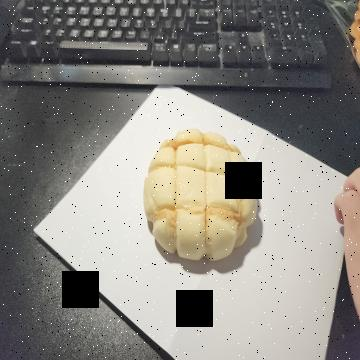melon_bread: (142, 127, 258, 262)
